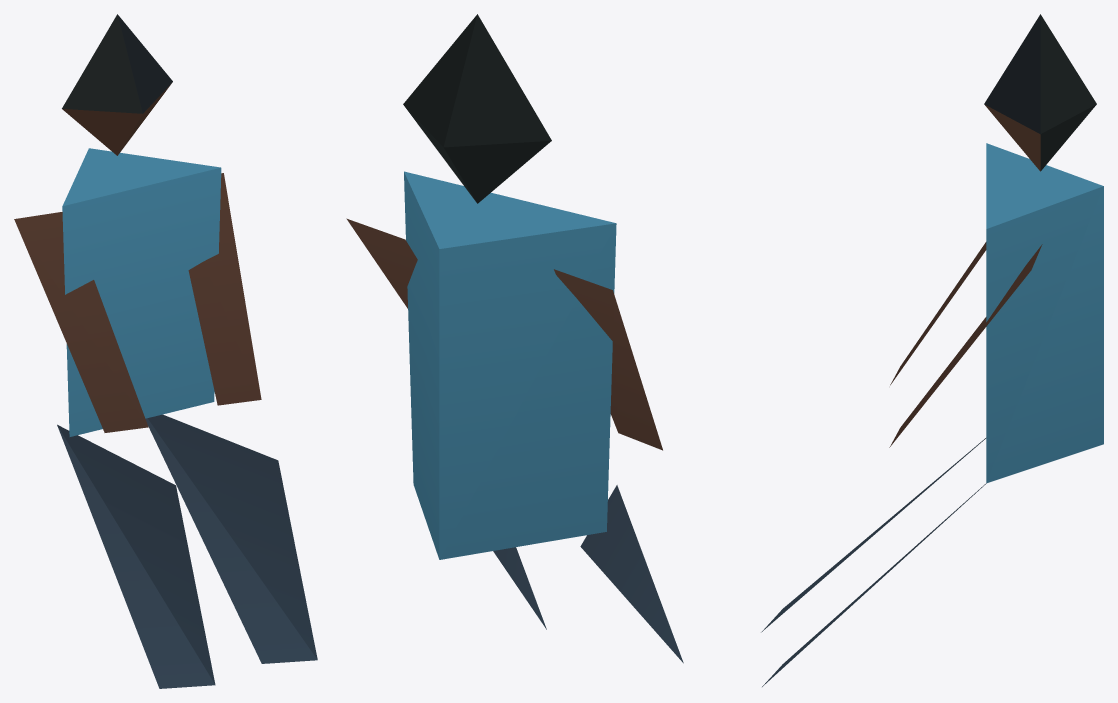
The model's file is fan-10.glb.
The picture shows the model from 3 angles, left to right: view 1: azimuth 30°, elevation 25°; view 2: azimuth 150°, elevation 25°; view 3: azimuth 270°, elevation 25°; orthographic projection. The views are drawn at different scales.
Visible parts, largest first — view 1: fan-10; view 2: fan-10; view 3: fan-10.
Boxes of the visible parts, x1,y1,x2,y2 form: fan-10: [14, 14, 317, 688]; fan-10: [346, 14, 683, 663]; fan-10: [761, 14, 1103, 686].
Size of the model in its own units: 0.58 by 1.55 by 0.76.
